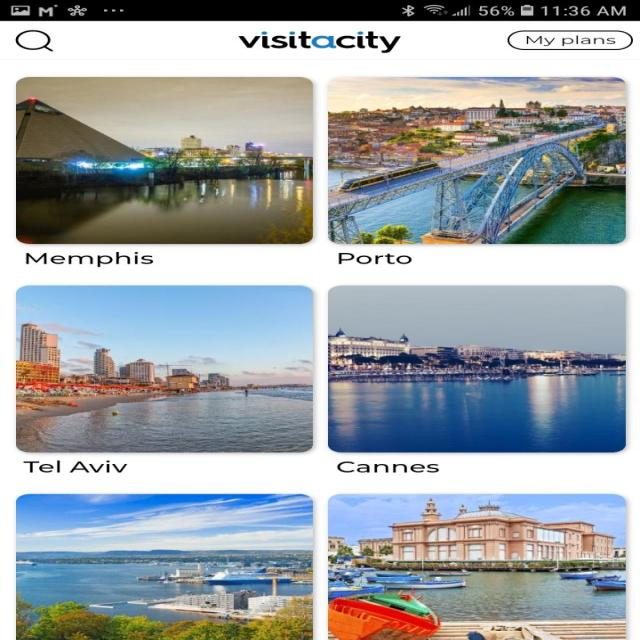Icon: (15, 30, 54, 52)
Image: (327, 285, 625, 452), (15, 285, 313, 452), (328, 77, 626, 244), (15, 77, 313, 244), (327, 494, 625, 640), (16, 494, 313, 640), (237, 31, 401, 53)
Text: (25, 251, 153, 267), (22, 460, 128, 472), (336, 462, 439, 472), (338, 252, 412, 264)
TextButton: (507, 30, 633, 50)
